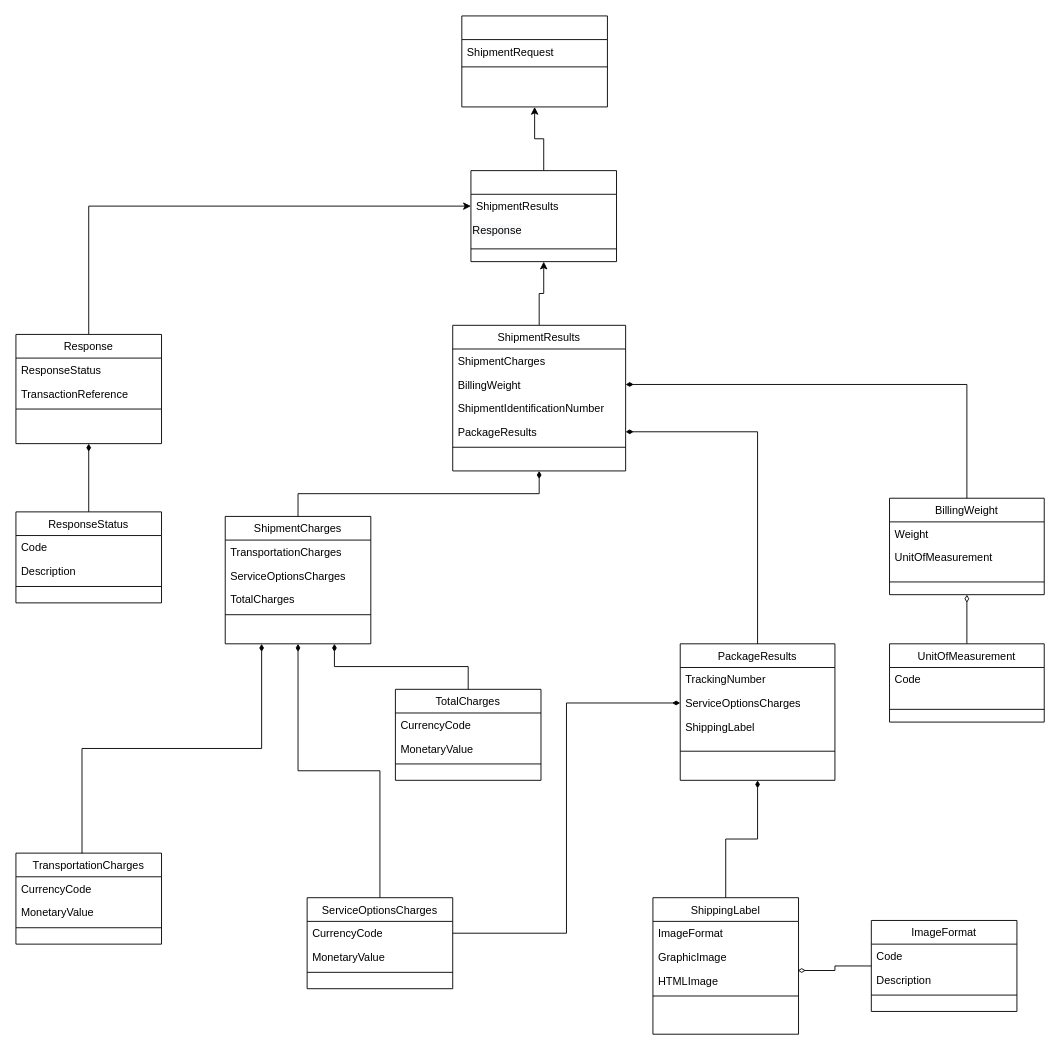
Some shapes in this 1060 by 1050 pixel diagram are drawn without their labels. Each missing label, with the box of its shape:
ShipmentResponse: (470, 170, 617, 262)
ShipmentResponseWrapper: (461, 15, 607, 107)
